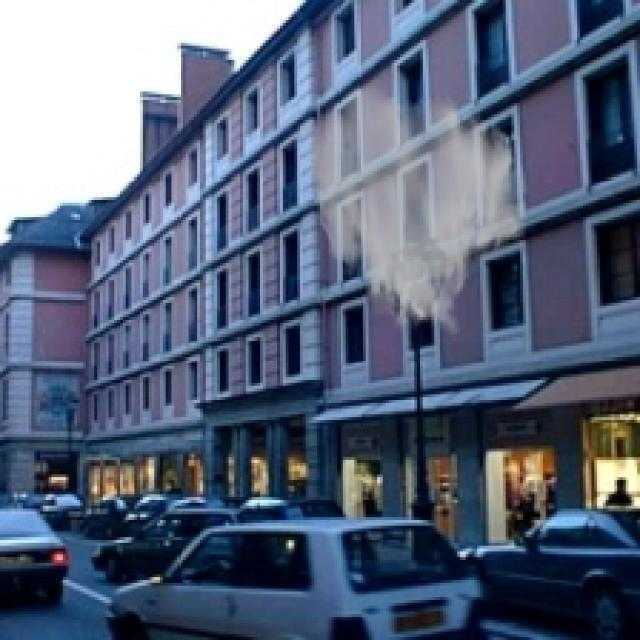Smoke: (306, 80, 532, 340)
